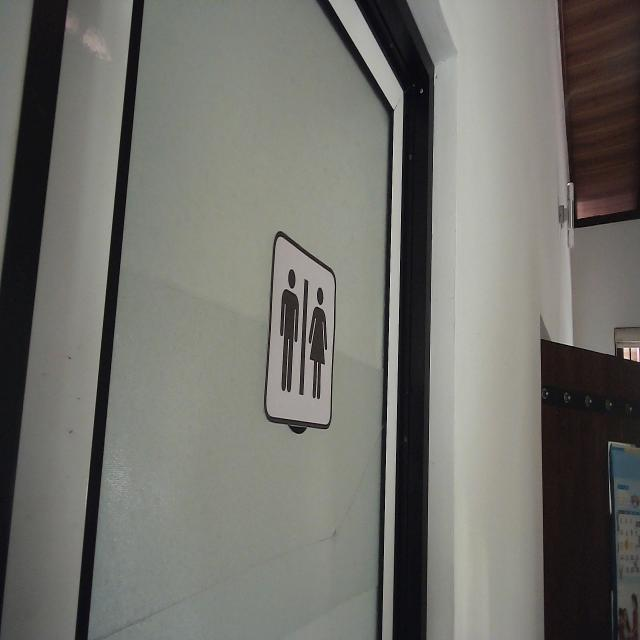restroom: (262, 228, 338, 434)
